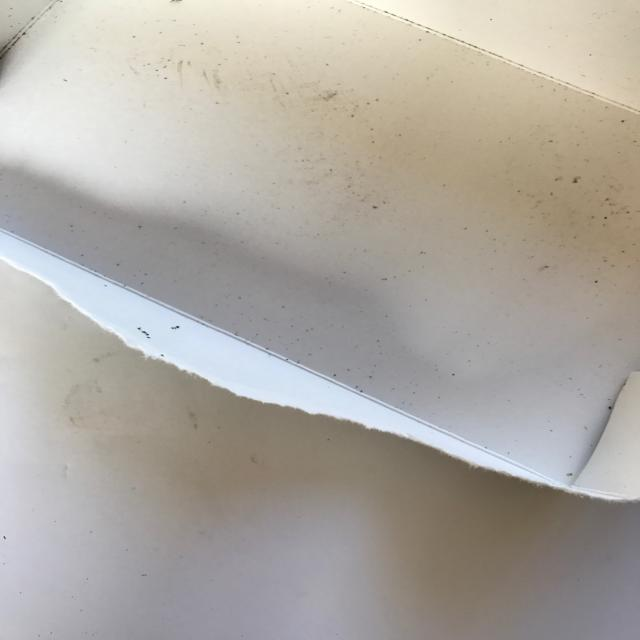paper: (1, 0, 639, 501)
